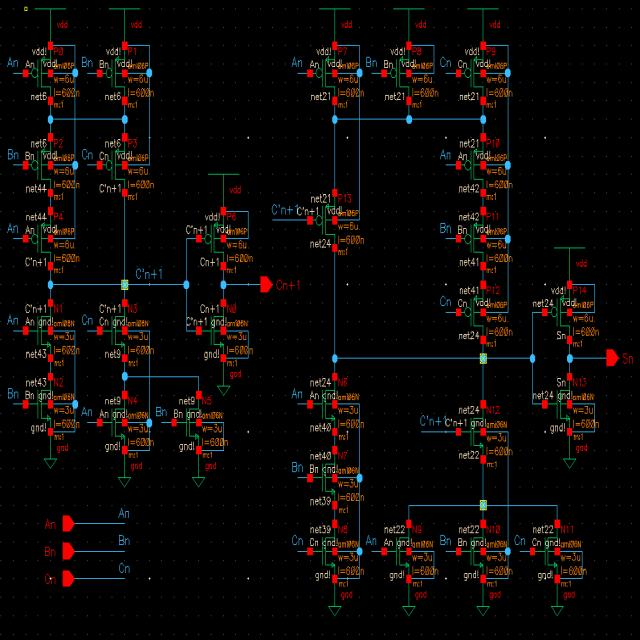nmos: (196, 298, 228, 364), (307, 520, 339, 585), (98, 390, 129, 456), (307, 374, 339, 437), (456, 521, 487, 584), (23, 297, 53, 361), (23, 374, 54, 435), (542, 375, 574, 434), (98, 300, 128, 362), (172, 392, 202, 454), (382, 522, 413, 582), (457, 402, 487, 464), (532, 520, 561, 584), (308, 447, 338, 507)
pmos: (381, 42, 414, 108), (95, 42, 128, 105), (195, 205, 227, 269), (23, 40, 54, 106), (22, 133, 54, 196), (456, 134, 488, 197), (541, 282, 573, 344), (23, 210, 55, 271), (308, 41, 337, 108), (23, 134, 54, 196), (308, 190, 338, 254), (97, 134, 128, 195), (457, 42, 487, 105), (457, 209, 487, 271), (456, 281, 486, 342)
